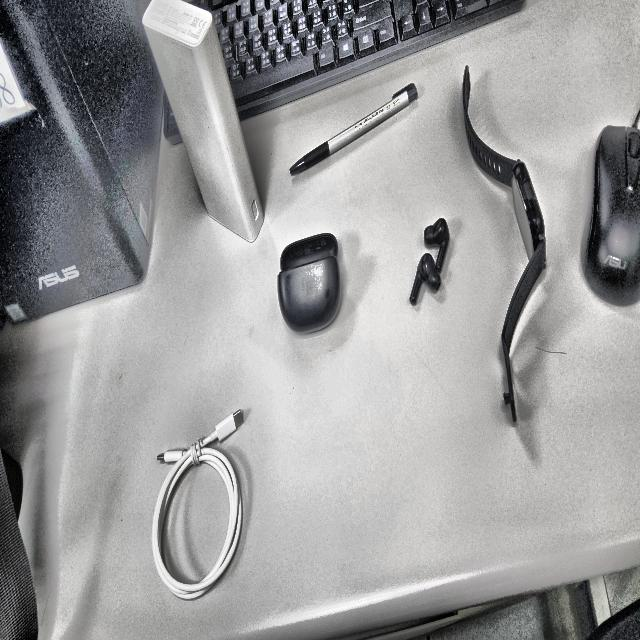Bluetooth headphones: (278, 233, 341, 334), (410, 219, 449, 305)
Electronic watch: (212, 0, 524, 121), (462, 66, 546, 422)
Keyboard: (196, 0, 524, 121), (163, 92, 182, 145)
MOUSE: (581, 125, 640, 306)
Power bank: (142, 0, 263, 241)
